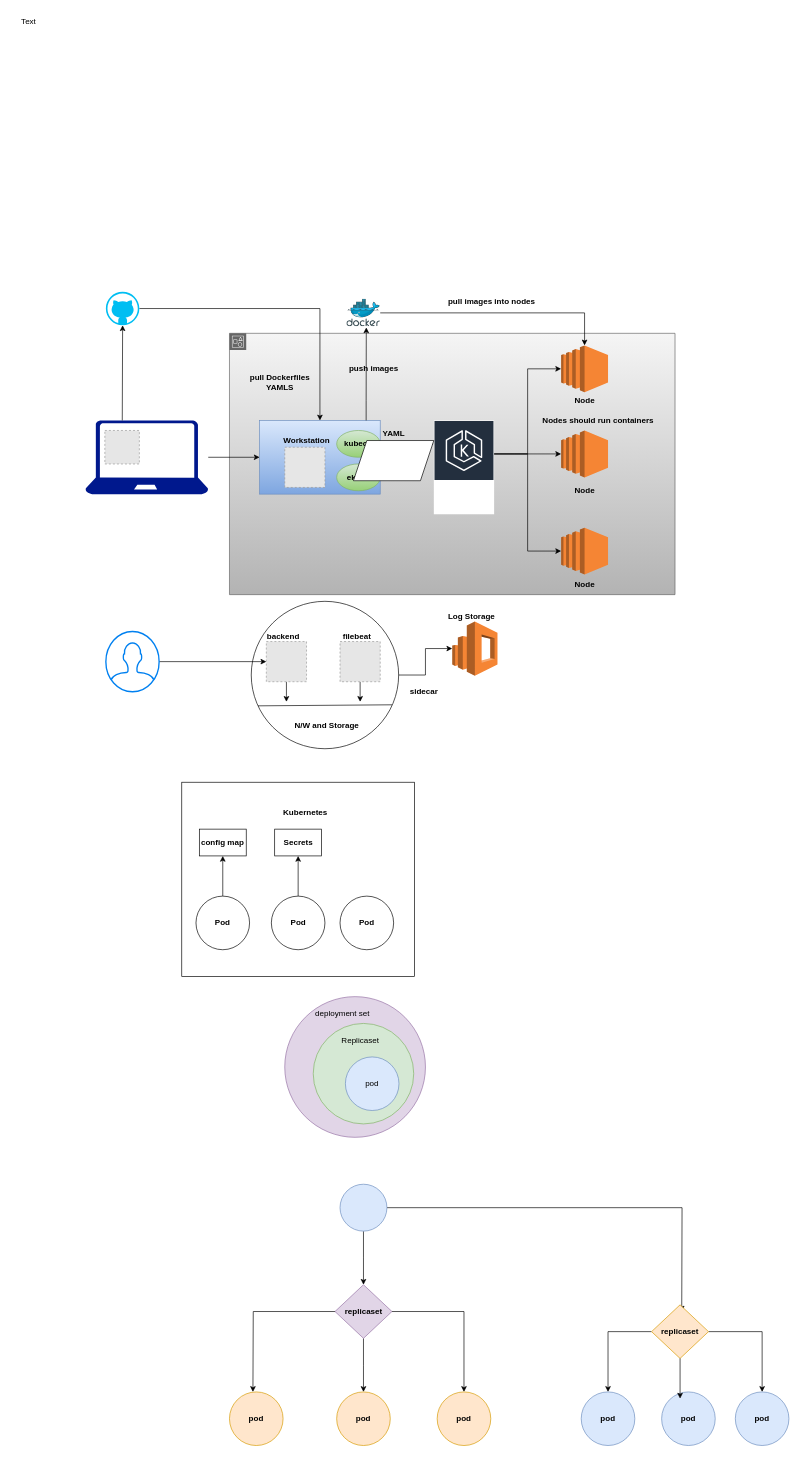
The diagram is 801 pixels wide and 1457 high, and some of its shapes have lost their labels. Grey dashed boxes stand in for pictures. The box of each missing label's shape, as (x1, y1, x2, y2) in pixels:
AWS Account: (229, 333, 675, 595)
Control Plane: (433, 420, 494, 514)
deployment: (339, 1184, 387, 1231)
